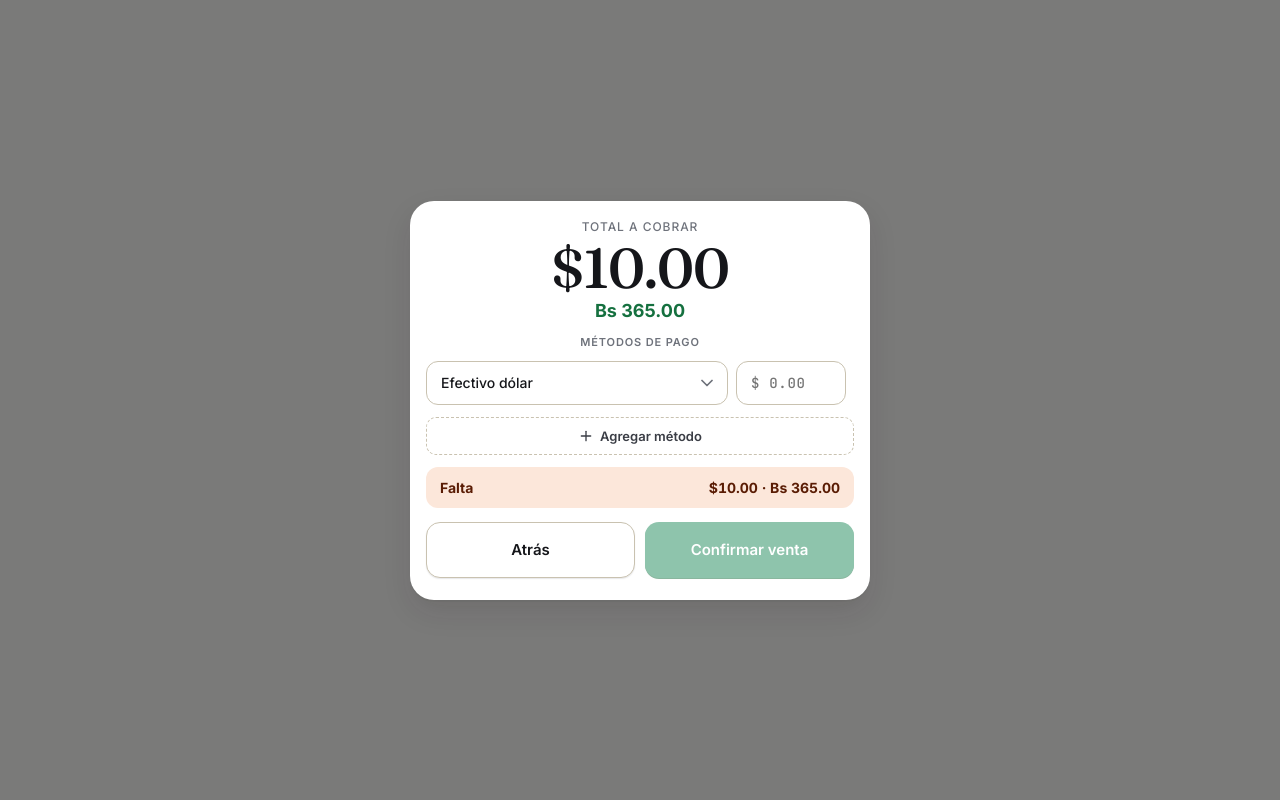
Test: PaymentSheet › overpayment shows "Excedido en"
Type "12" into the field with placeholder "$ 0.00".
click(791, 382); type("12")  # box [736,360,846,404]
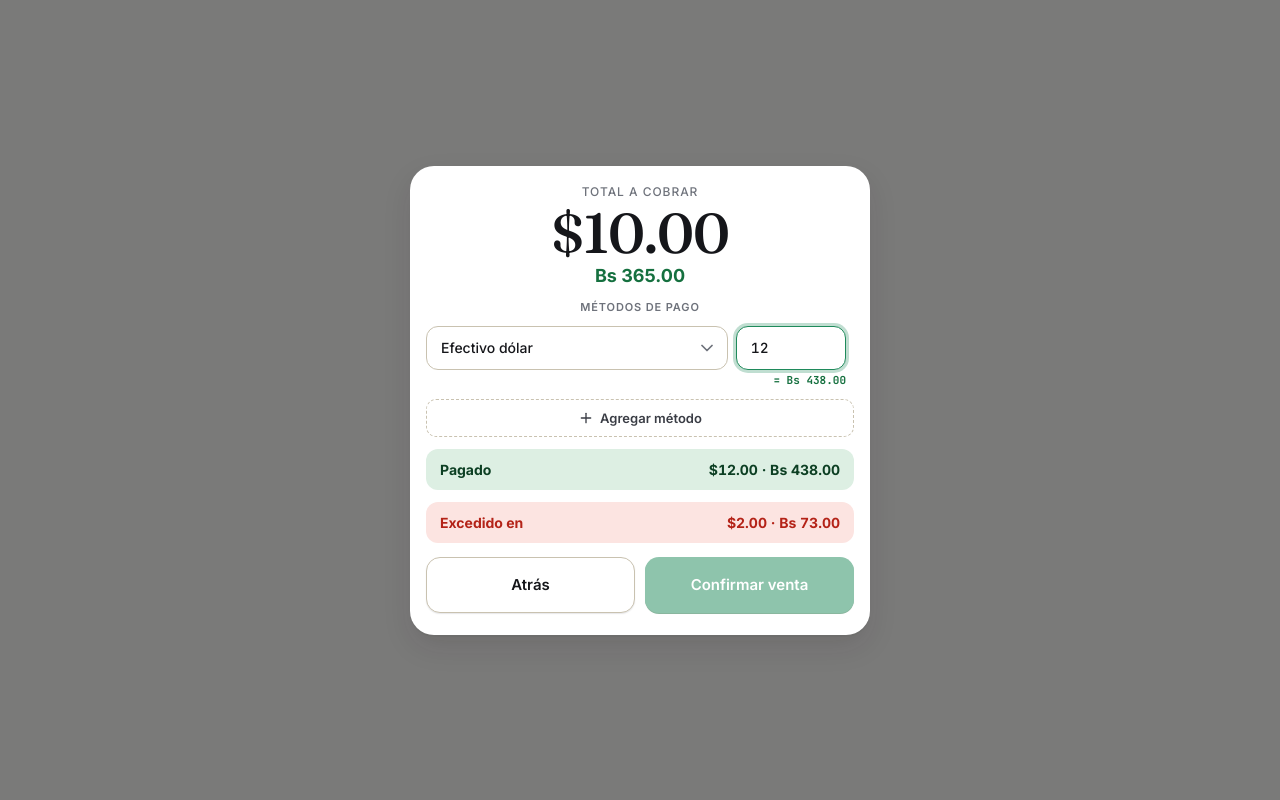
Expected: the button "Confirmar venta" is disabled, [645,556,854,612]
Result: the text "Excedido en" is shown at [440,514,523,530]
